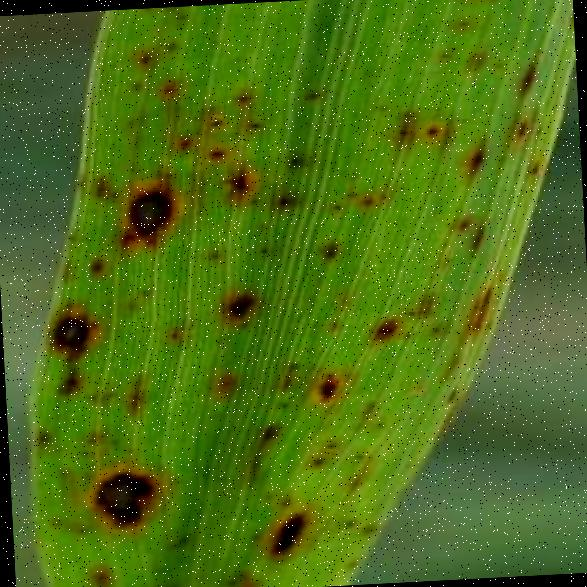Brown_Spot: (71, 460, 175, 536), (108, 162, 183, 252), (258, 496, 320, 566), (207, 278, 266, 337), (212, 150, 266, 208), (503, 43, 552, 100), (109, 362, 157, 420), (40, 306, 95, 356), (450, 128, 498, 179), (463, 273, 500, 337), (402, 278, 442, 325), (361, 308, 404, 348), (386, 104, 420, 154), (308, 364, 344, 408), (49, 364, 86, 400), (208, 359, 241, 399), (76, 248, 112, 282), (462, 217, 490, 259), (80, 557, 117, 587), (338, 462, 371, 495), (310, 234, 343, 265), (252, 416, 286, 446), (128, 42, 160, 73), (517, 149, 546, 182), (116, 70, 152, 95), (197, 240, 228, 269), (154, 70, 182, 101), (445, 8, 476, 35), (168, 128, 199, 155), (460, 42, 487, 73), (85, 172, 110, 205), (26, 420, 53, 450), (352, 514, 381, 541), (223, 84, 254, 109), (229, 562, 260, 587), (268, 185, 295, 212), (197, 142, 228, 165), (160, 321, 187, 346), (292, 82, 322, 104), (280, 146, 305, 171), (439, 382, 464, 407), (506, 112, 528, 140), (54, 254, 73, 286), (247, 238, 274, 260), (302, 450, 326, 473), (420, 316, 446, 337), (324, 194, 348, 216), (236, 115, 266, 132), (418, 117, 440, 140), (450, 210, 472, 233), (432, 42, 456, 63), (241, 524, 265, 545), (156, 32, 178, 54), (338, 552, 362, 572), (142, 574, 178, 587), (355, 189, 377, 210), (169, 526, 193, 545), (394, 326, 416, 346), (334, 512, 356, 532), (270, 394, 294, 412), (169, 6, 189, 26), (322, 313, 340, 335), (59, 226, 81, 243), (321, 434, 341, 452), (120, 296, 140, 314), (272, 490, 292, 508), (356, 60, 376, 78), (204, 111, 222, 130), (372, 97, 390, 116), (134, 282, 154, 298), (347, 445, 367, 461), (216, 571, 236, 587), (255, 485, 273, 501), (42, 512, 60, 528), (369, 416, 385, 432), (487, 56, 503, 72), (530, 120, 544, 138), (372, 189, 390, 203), (106, 187, 122, 202), (428, 98, 442, 114), (434, 232, 448, 248), (124, 443, 136, 455), (105, 434, 117, 446), (76, 446, 88, 458)
